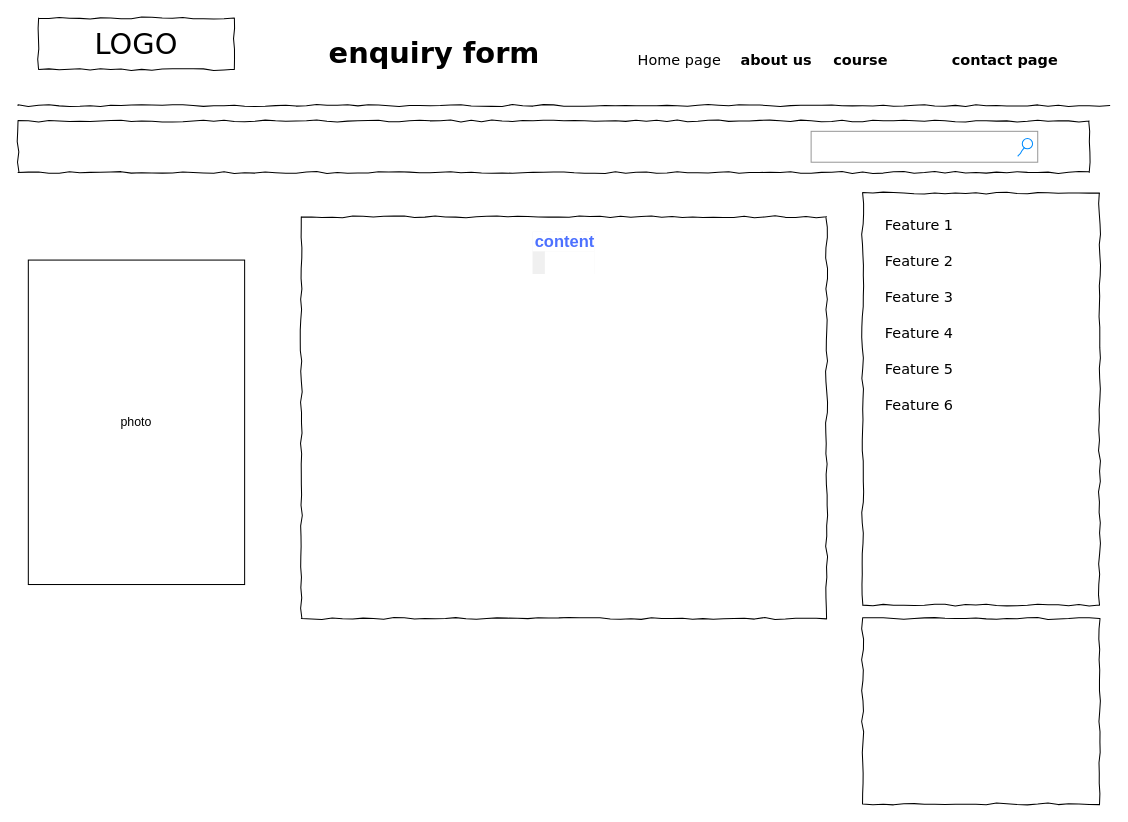
This 1128x822 diagram has some shape labels left out. The centre of each missing label's shape, as x and y in pixels:
External Links: the point at 981,710
Search: the point at 924,146
